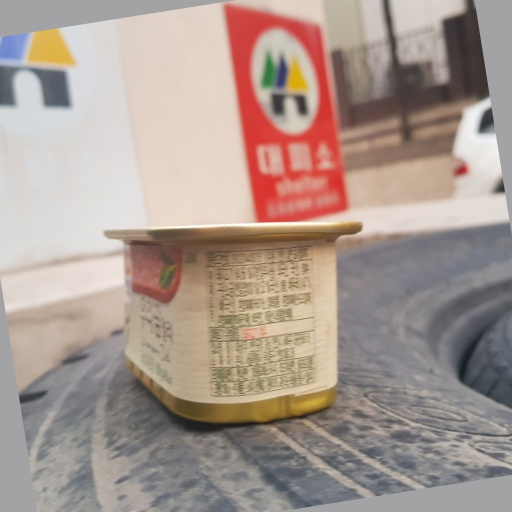Metal_2: (97, 216, 366, 426)
